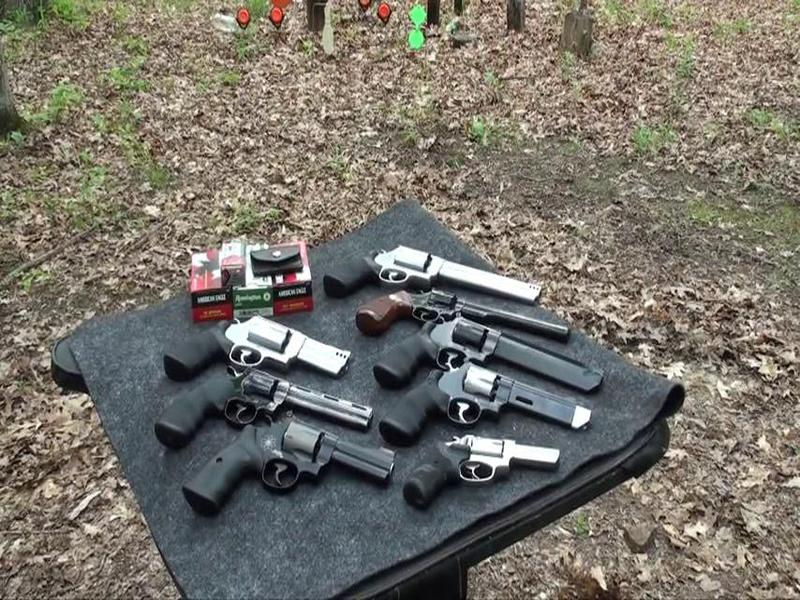Revolver: (366, 301, 607, 393)
